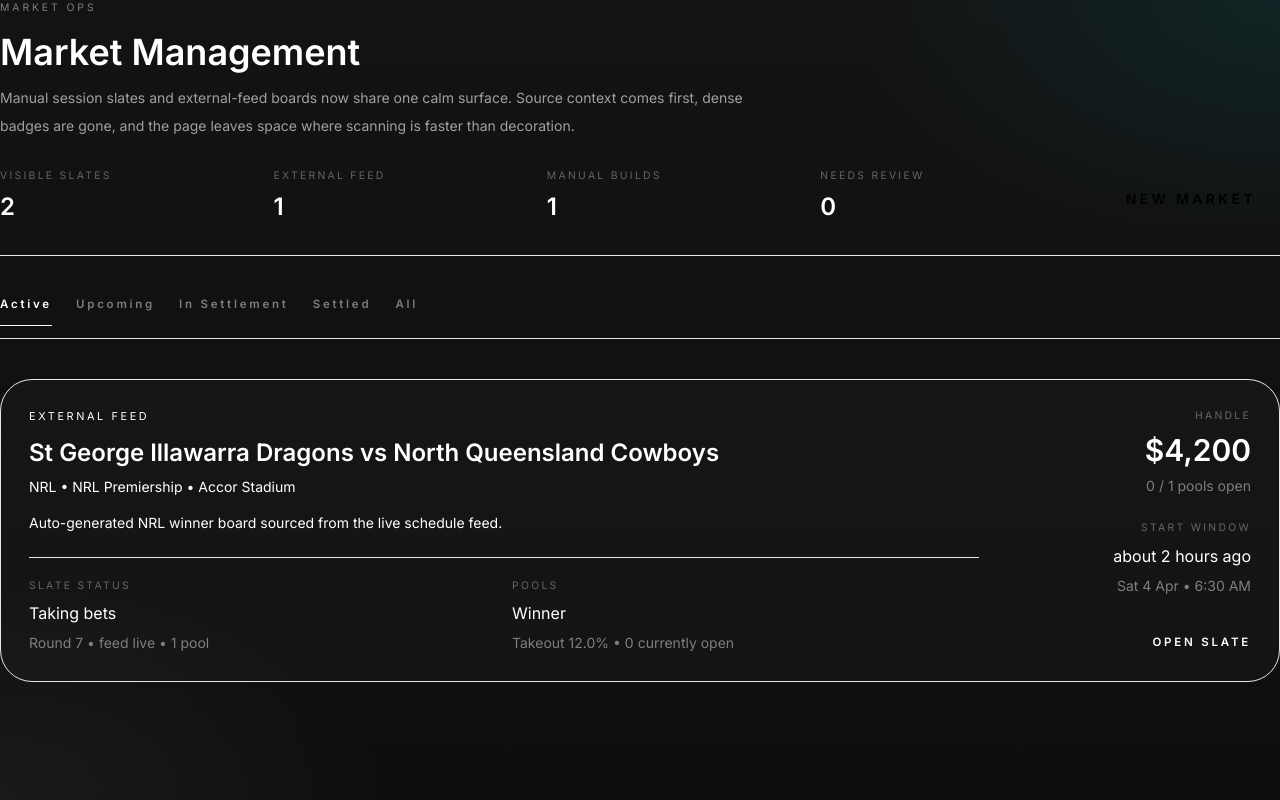
Test: MarketManagementPage › renders source-first summaries for external and manual slates
The width and height of the screenshot is (1280, 800).
Check: the heading "Market Management" is shown, box left=0, top=30, right=360, bottom=74
Check: the heading "St George Illawarra Dragons vs North Queensland Cowboys" is shown, box left=29, top=438, right=719, bottom=467
Click the button "All".
click(407, 311)  # box left=395, top=296, right=418, bottom=326
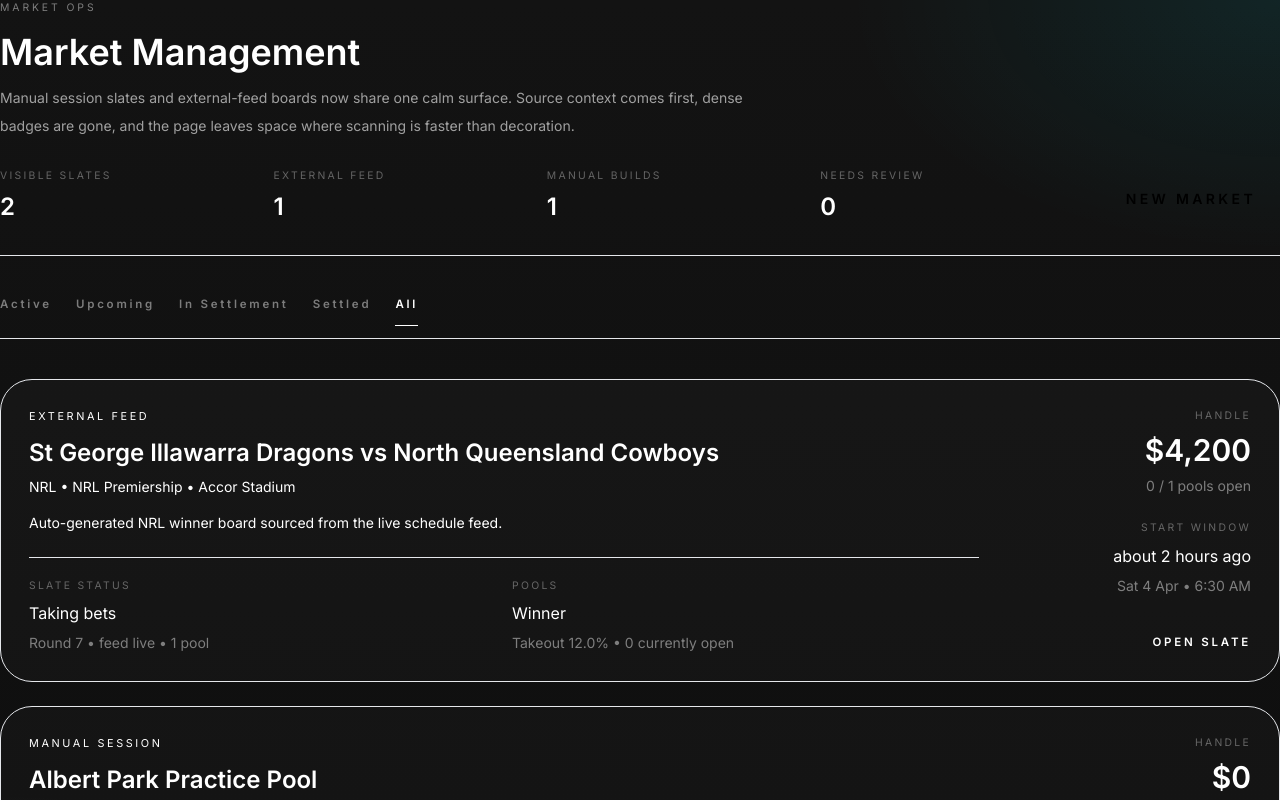
Check: the text "External Feed" next to "Manual Builds" is shown, box left=273, top=169, right=386, bottom=182
Check: the heading "Albert Park Practice Pool" is shown, box left=29, top=765, right=317, bottom=794
Check: the number of links "Open Slate" is 2
